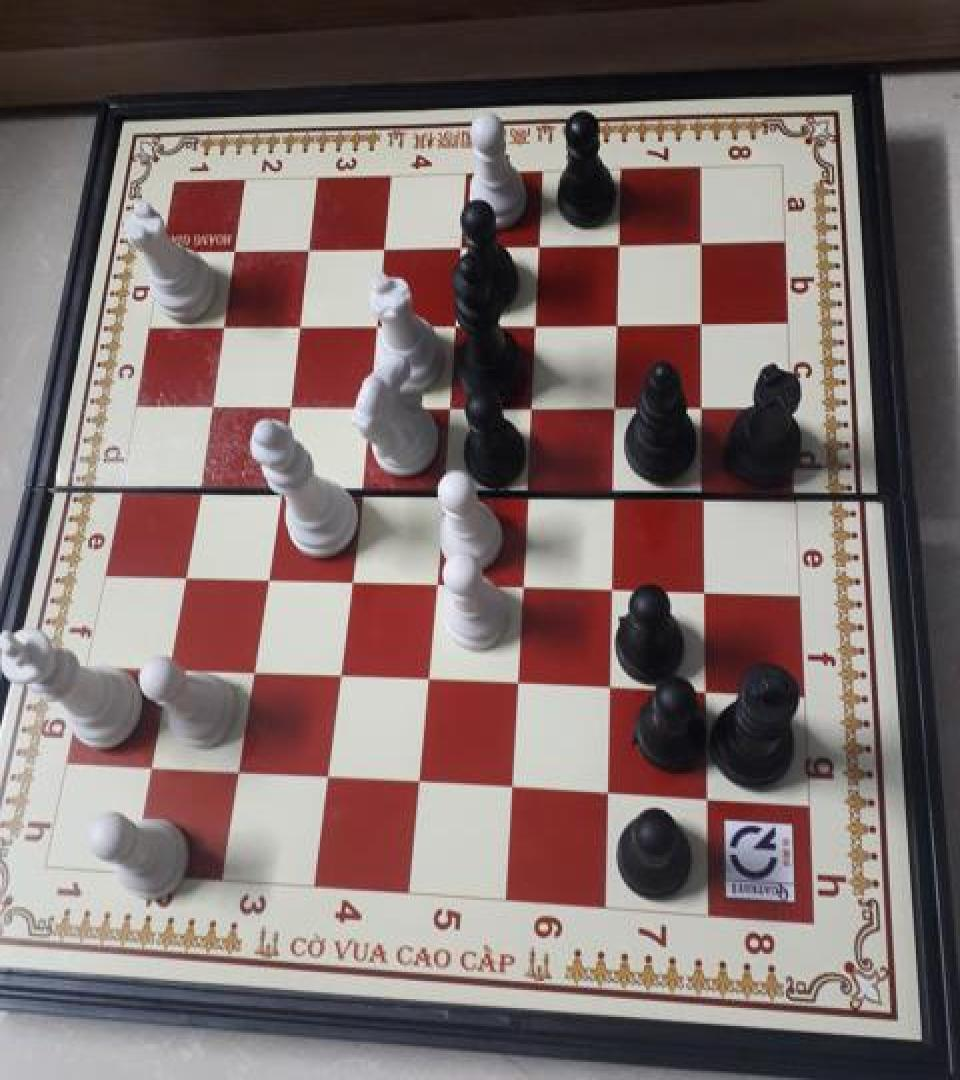xcorner: (687, 572, 719, 609), (593, 669, 625, 706), (408, 660, 440, 697), (233, 652, 265, 689), (494, 769, 526, 806), (684, 225, 716, 261), (601, 227, 633, 263), (520, 228, 552, 264), (441, 230, 473, 266), (364, 230, 396, 266), (289, 232, 321, 268), (215, 233, 247, 269), (684, 305, 716, 341), (600, 305, 632, 341), (517, 306, 549, 342), (436, 306, 468, 342), (356, 307, 388, 343), (279, 307, 311, 343), (203, 307, 235, 343), (685, 389, 717, 425), (598, 388, 630, 424), (513, 388, 545, 424), (429, 387, 461, 423), (348, 387, 380, 423), (269, 386, 301, 422), (191, 386, 223, 422), (686, 478, 718, 514), (596, 476, 628, 512), (508, 475, 540, 511), (423, 474, 455, 510), (339, 472, 371, 508), (258, 470, 290, 506), (178, 469, 210, 505), (595, 569, 627, 605), (504, 567, 536, 603), (416, 564, 448, 600), (330, 562, 362, 598), (246, 559, 278, 595), (164, 556, 196, 592), (688, 674, 720, 710), (499, 665, 531, 701), (320, 657, 352, 693), (149, 649, 181, 685), (690, 781, 722, 817), (591, 775, 623, 811), (401, 764, 433, 800), (309, 758, 341, 794), (220, 752, 252, 788), (134, 748, 166, 784)
